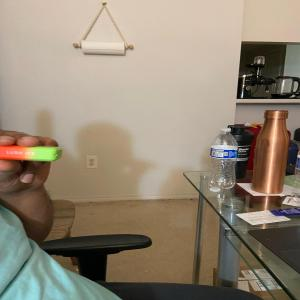Swift-E-Ciggirate: (0, 139, 62, 167)
